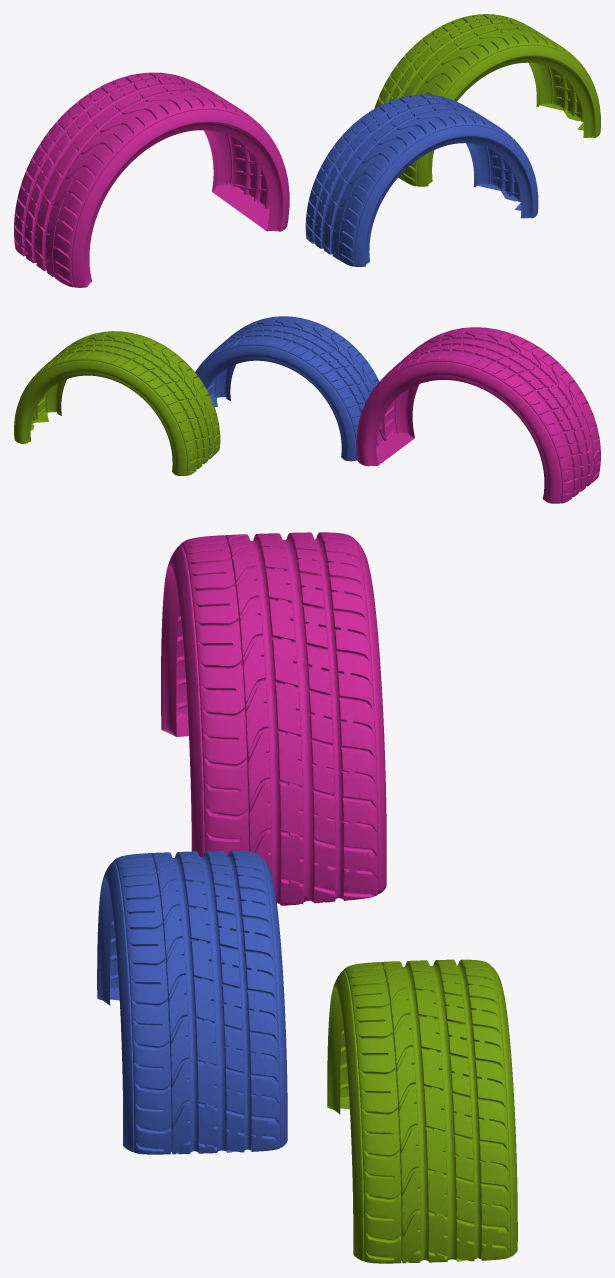
File: ruote.fbx
3 views of the same model, one above another, from view 1: azimuth 30°, elevation 25°; view 2: azimuth 150°, elevation 25°; view 3: azimuth 270°, elevation 25° (orthographic). The views are drawn at different scales.
Parts seen in each view (by area): view 1: PM3D_Tire11.001, PM3D_Tire11, PM3D_Tire11.002; view 2: PM3D_Tire11.001, PM3D_Tire11.002, PM3D_Tire11; view 3: PM3D_Tire11.001, PM3D_Tire11.002, PM3D_Tire11.
Boxes of the visible parts, <box> form: PM3D_Tire11.001: <box>14,72,289,287</box>; PM3D_Tire11: <box>305,94,538,266</box>; PM3D_Tire11.002: <box>374,14,600,186</box>; PM3D_Tire11.001: <box>356,327,600,503</box>; PM3D_Tire11.002: <box>14,331,220,475</box>; PM3D_Tire11: <box>195,316,379,461</box>; PM3D_Tire11.001: <box>161,532,386,905</box>; PM3D_Tire11.002: <box>327,959,517,1263</box>; PM3D_Tire11: <box>97,850,287,1154</box>.
Bounding box in the file's own units: 1145 × 325 × 405.
